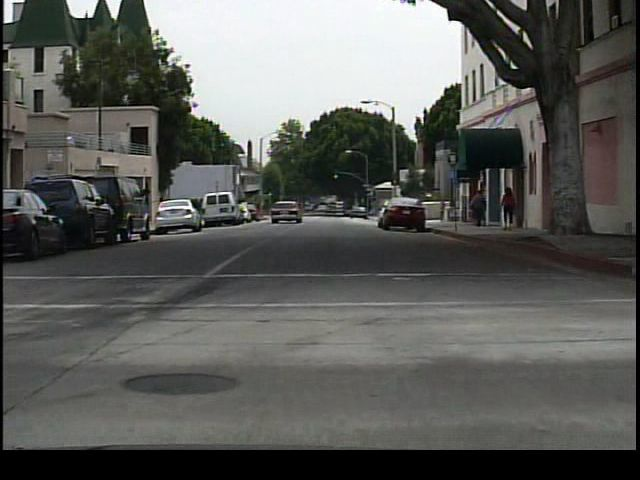person: (498, 185, 521, 234), (467, 188, 488, 230)
